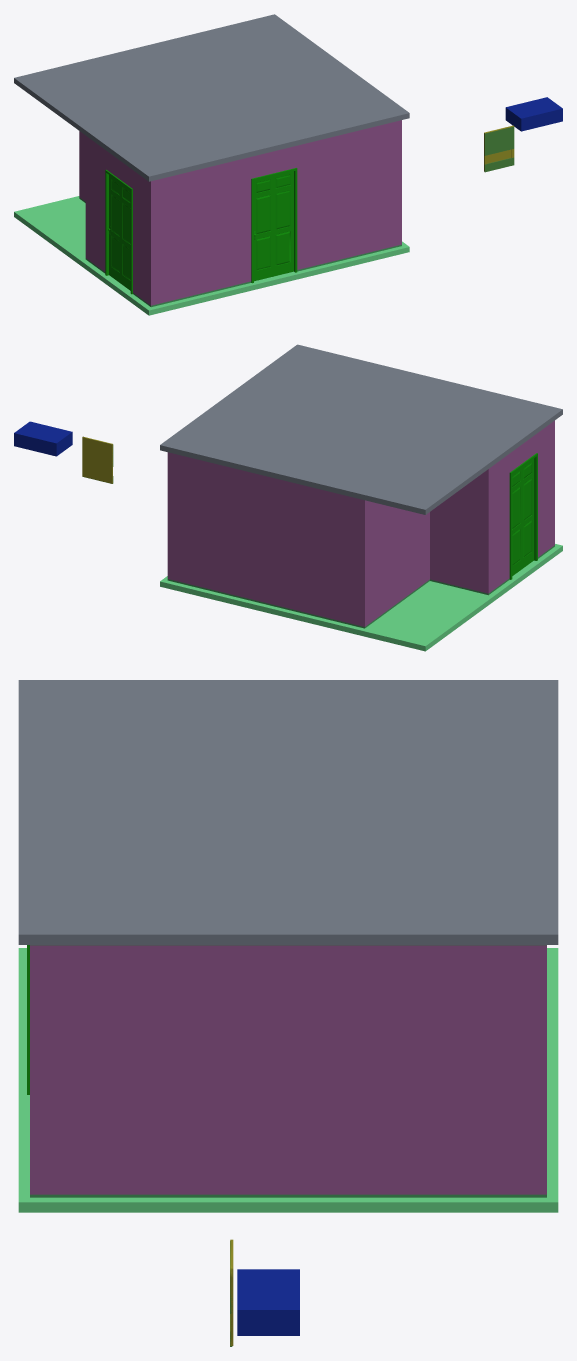
Rendered from FloorPlan5_physics.fbx.
3 renders of one model, top to bottom at view 1: azimuth 30°, elevation 25°; view 2: azimuth 150°, elevation 25°; view 3: azimuth 270°, elevation 25°, orthographic. The views are drawn at different scales.
Visible parts, largest first — view 1: Ceiling, StandardWallSize, Floor, StandardDoor1, StandardDoor1 (2), StandardSinkSize1, StandardDoorFrame1, StandardDoorFrame1 (2), DrawerBase2; view 2: StandardWallSize, Ceiling, Floor, StandardDoor1 (2), StandardSinkSize1, CabinetDoorBase3, StandardDoorFrame1 (2); view 3: Ceiling, StandardWallSize, Floor, StandardSinkSize1.
Boxes of the visible parts, x1,y1,x2,y2 form: Ceiling: (14,14,409,181); StandardWallSize: (79,120,401,307); Floor: (14,196,409,315); StandardDoor1: (254,171,293,281); StandardDoor1 (2): (109,175,130,290); StandardSinkSize1: (505,97,562,131); StandardDoorFrame1: (251,168,297,283); StandardDoorFrame1 (2): (105,169,132,294); DrawerBase2: (484,133,514,155); StandardWallSize: (167,420,554,628); Ceiling: (160,344,562,514); Floor: (160,544,562,651); StandardDoor1 (2): (512,458,533,575); StandardSinkSize1: (14,421,72,456); CabinetDoorBase3: (82,437,112,483); StandardDoorFrame1 (2): (509,453,537,579); Ceiling: (18,680,558,944); StandardWallSize: (30,945,546,1197); Floor: (18,948,558,1212); StandardSinkSize1: (237,1269,299,1335).
Bounding box in the file's own units: 953 × 270 × 475.
